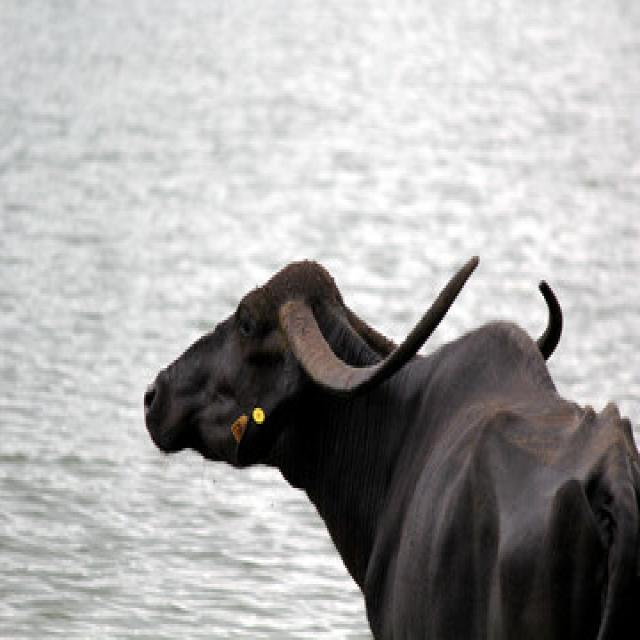Buffalo: (141, 248, 639, 637)
